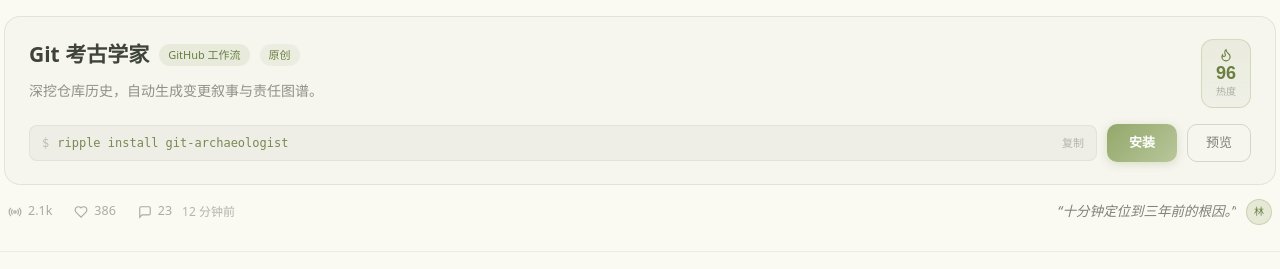
SkillCard › 点击命令区复制安装命令并显示已复制反馈、上报 copy 互动
The width and height of the screenshot is (1280, 269).
Click the text "复制".
click(1073, 143)  # box [1062, 134, 1084, 151]
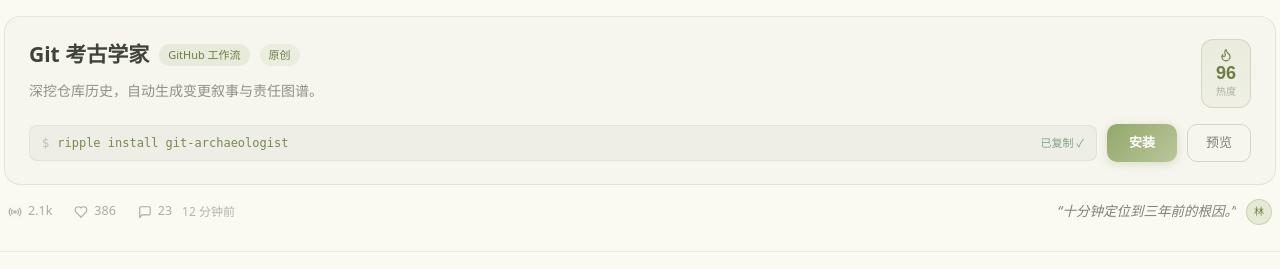
Expected: the text "已复制 ✓" is shown, [1041, 134, 1084, 151]
